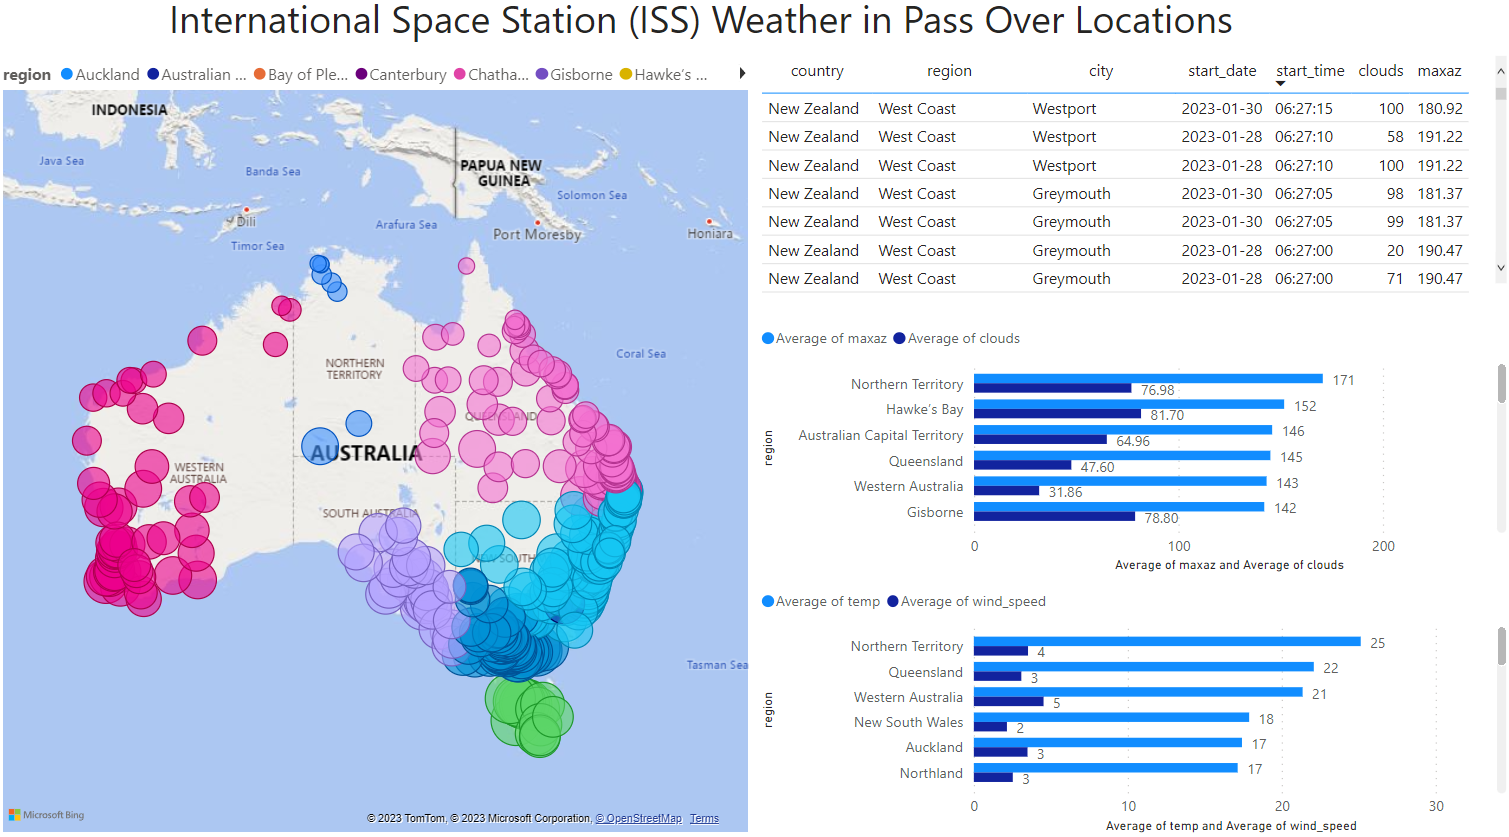

The page's visual inventory and layout, read from the dashboard file:
{"tool":"powerbi","page":{"name":"Page 1","canvas":[1280,720],"ordinal":0},"visuals":[{"type":"tableEx","fields":{"Values":["final_table.country","final_table.region","final_table.city","final_table.start_date","final_table.start_time","final_table.clouds","final_table.maxaz"]},"box":[640.2,54.1,640.2,211],"z":0},{"type":"clusteredBarChart","fields":{"Y":["Avg(final_table.temp)","Avg(final_table.wind_speed)"],"Category":["final_table.region"]},"box":[640.2,500.1,640.2,219.9],"z":1000},{"type":"clusteredBarChart","fields":{"Y":["Avg(final_table.maxaz)","Avg(final_table.clouds)"],"Category":["final_table.region"]},"box":[640.6,278,639.7,222.3],"z":2000},{"type":"map","fields":{"Y":["final_table.lat"],"X":["final_table.lon"],"Series":["final_table.region"],"Size":["CountNonNull(final_table.city)"]},"box":[0,54.1,640.2,665.9],"z":3000},{"type":"textbox","box":[140.1,0,956.7,54.1],"z":4000}]}

Visuals, with their boxes in screenshot pixels (x1, y1, x2, y2), scaled from the page's 1280x720 canvas onto the 1509x837 screenshot:
tableEx - final_table.country x final_table.region: 755 63 1508 308
clusteredBarChart - Avg(final_table.temp) x Avg(final_table.wind_speed): 755 581 1508 836
clusteredBarChart - Avg(final_table.maxaz) x Avg(final_table.clouds): 755 323 1508 582
map - final_table.lat x final_table.lon: 0 63 755 836
textbox: 165 0 1293 63
